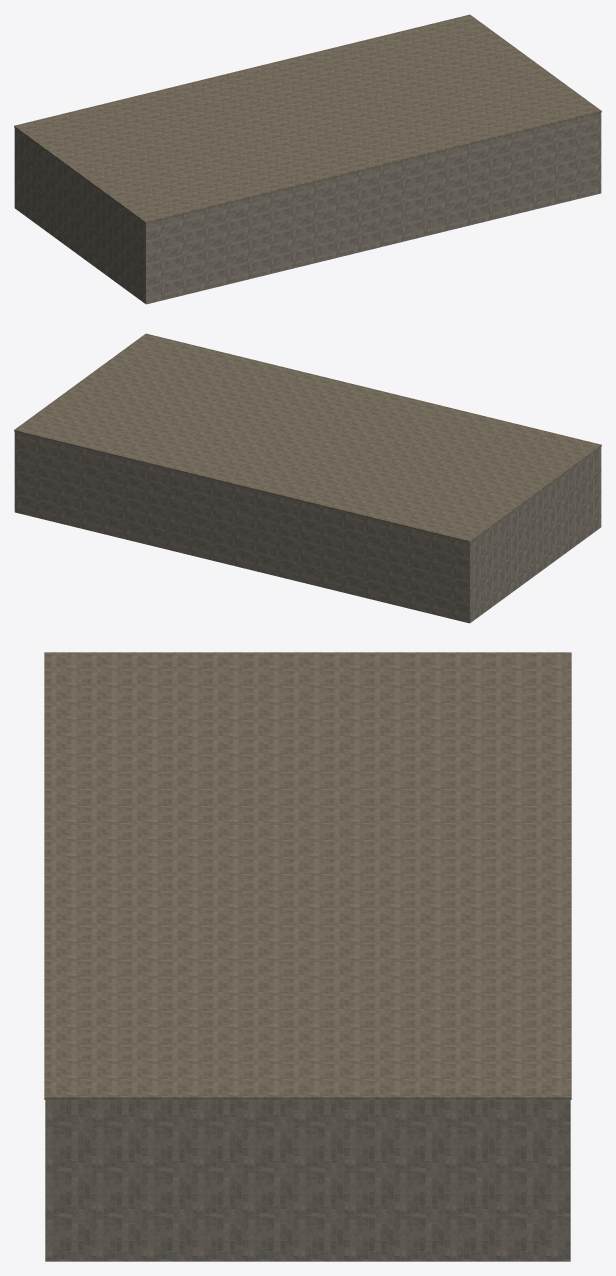
The model's file is SM_Art_Masonry_5200x2600x900.gltf.
The picture shows the model from 3 angles, top to bottom: view 1: azimuth 30°, elevation 25°; view 2: azimuth 150°, elevation 25°; view 3: azimuth 270°, elevation 25°; orthographic projection. The views are drawn at different scales.
Visible parts, largest first — view 1: SM_Art_Masonry_5200x2600x900; view 2: SM_Art_Masonry_5200x2600x900; view 3: SM_Art_Masonry_5200x2600x900.
Part boxes in pixels (x1=…): SM_Art_Masonry_5200x2600x900: x1=14, y1=14, x2=601, y2=304; SM_Art_Masonry_5200x2600x900: x1=14, y1=333, x2=601, y2=623; SM_Art_Masonry_5200x2600x900: x1=44, y1=652, x2=571, y2=1261.
Size of the model in its own units: 52.1 by 9 by 26.1.
2 materials, 2 textured.
